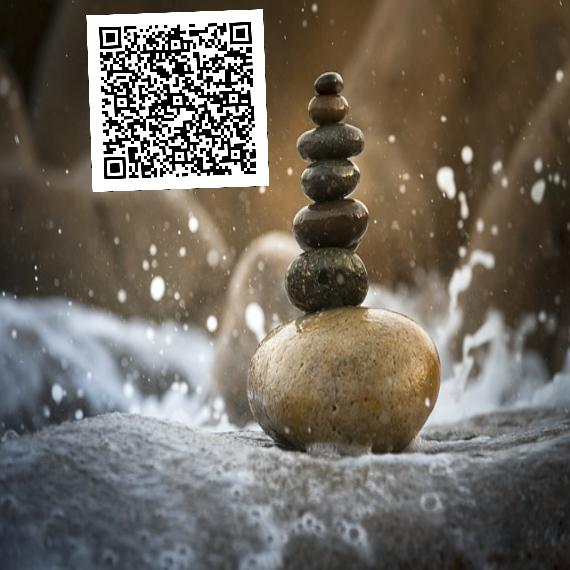qr_code: (86, 9, 268, 191)
